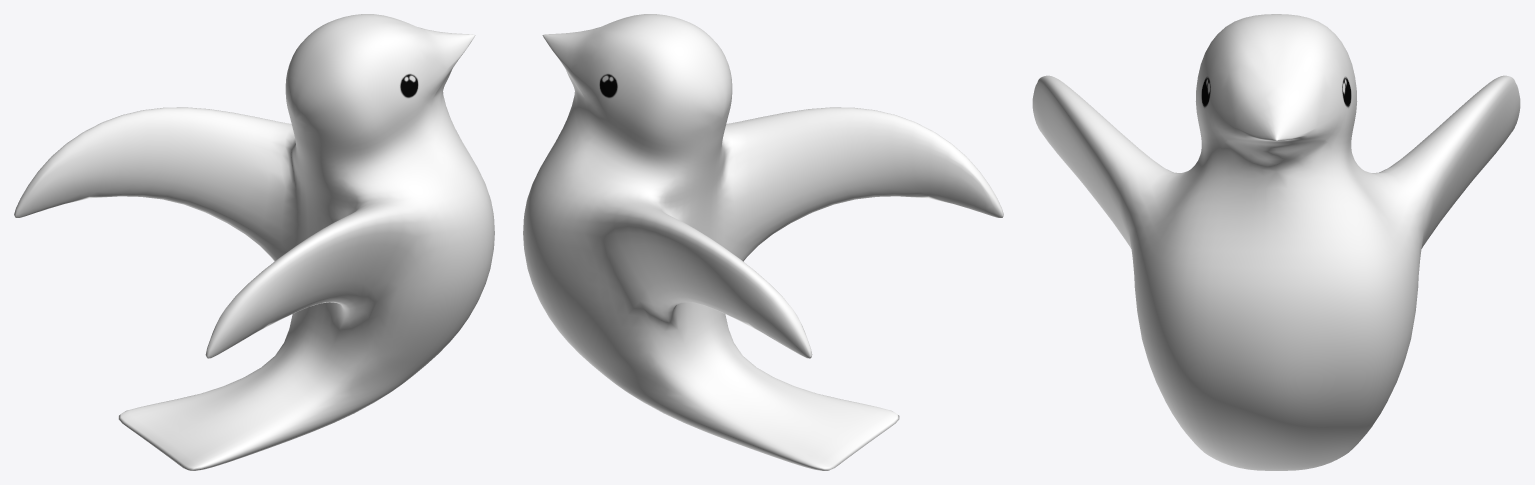
The model's file is bevybird.glb.
The picture shows the model from 3 angles, left to right: view 1: azimuth 30°, elevation 25°; view 2: azimuth 150°, elevation 25°; view 3: azimuth 270°, elevation 25°; orthographic projection. The views are drawn at different scales.
Visible parts, largest first — view 1: Plane; view 2: Plane; view 3: Plane.
Boxes of the visible parts, x1,y1,x2,y2 form: Plane: (14,14,494,470); Plane: (523,14,1003,470); Plane: (1032,14,1520,470).
Size of the model in its own units: 2.73 by 2.73 by 2.56.
Materials: 1 (1 with a texture image).
